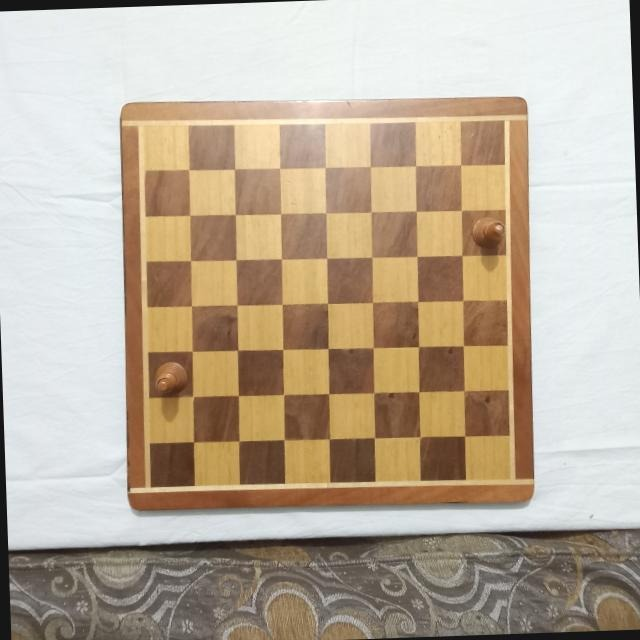white-bishop: (150, 359, 186, 397), (471, 215, 507, 248)
